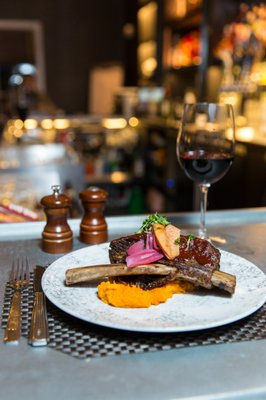sandwich: (28, 264, 49, 346)
